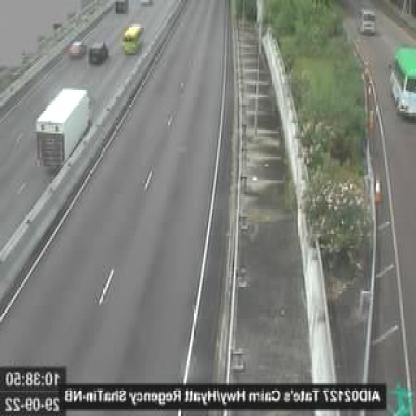Car: (120, 17, 150, 61), (355, 3, 379, 40), (64, 35, 87, 64), (87, 36, 109, 66)
Minibus: (386, 42, 416, 128)
Truck: (29, 80, 104, 175)
